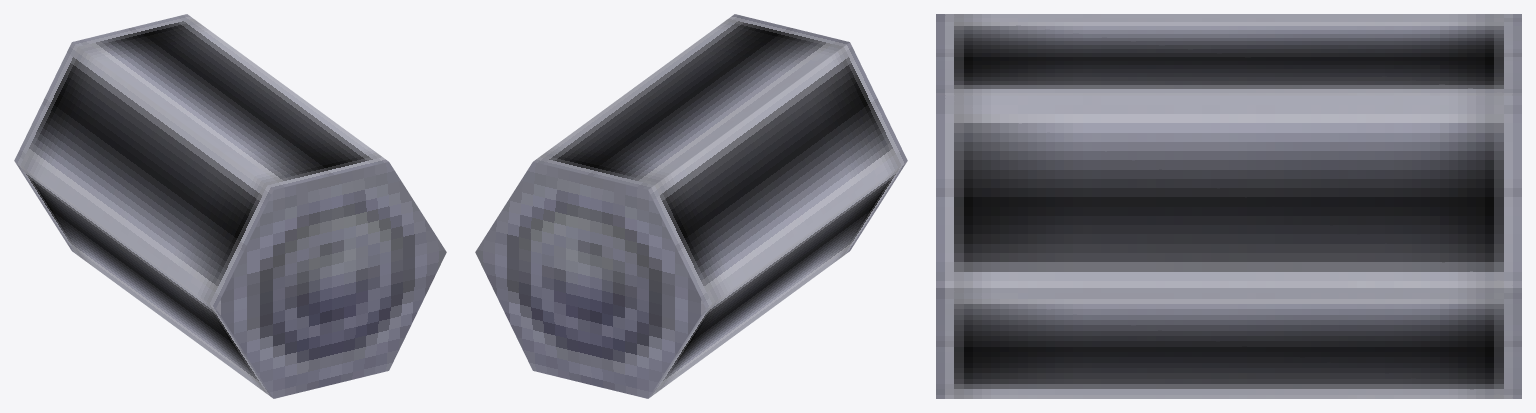
3 renders of one model, left to right at view 1: azimuth 30°, elevation 25°; view 2: azimuth 150°, elevation 25°; view 3: azimuth 270°, elevation 25°, orthographic. The views are drawn at different scales.
Visible parts, largest first — view 1: Cylinder11; view 2: Cylinder11; view 3: Cylinder11.
Boxes of the visible parts, x1,y1,x2,y2 form: Cylinder11: (14, 14, 446, 398); Cylinder11: (475, 14, 907, 398); Cylinder11: (936, 14, 1521, 398).
Bounding box in the file's own units: 211 × 182 × 319.
Materials: 1 (1 with a texture image).
